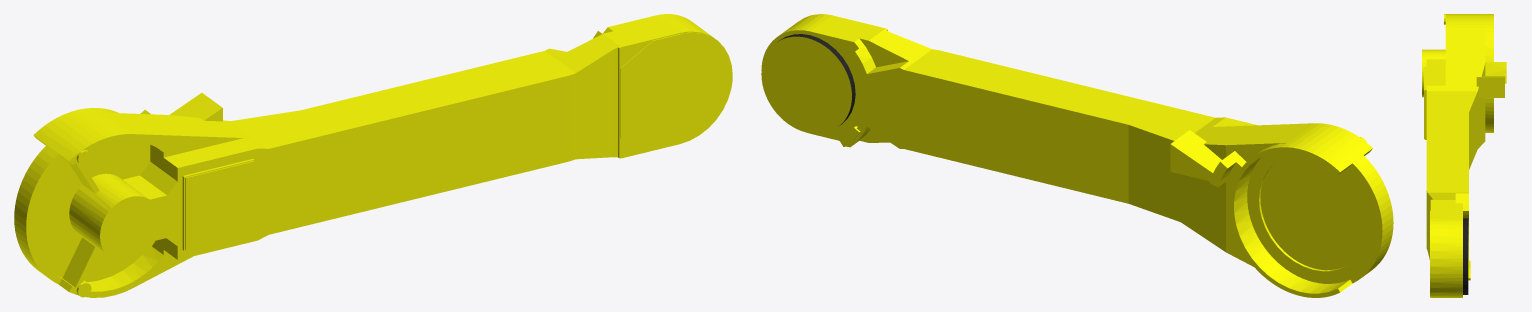
3 views of the same model, side by side, from view 1: azimuth 30°, elevation 25°; view 2: azimuth 150°, elevation 25°; view 3: azimuth 270°, elevation 25° (orthographic). The views are drawn at different scales.
Visible parts, largest first — view 1: node; view 2: node; view 3: node.
Part boxes in pixels (box(x1,y1,x2,y2)): node: box(14, 14, 732, 297); node: box(761, 14, 1393, 297); node: box(1422, 14, 1506, 297).
Bounding box in the file's own units: 1418 × 316 × 254.
